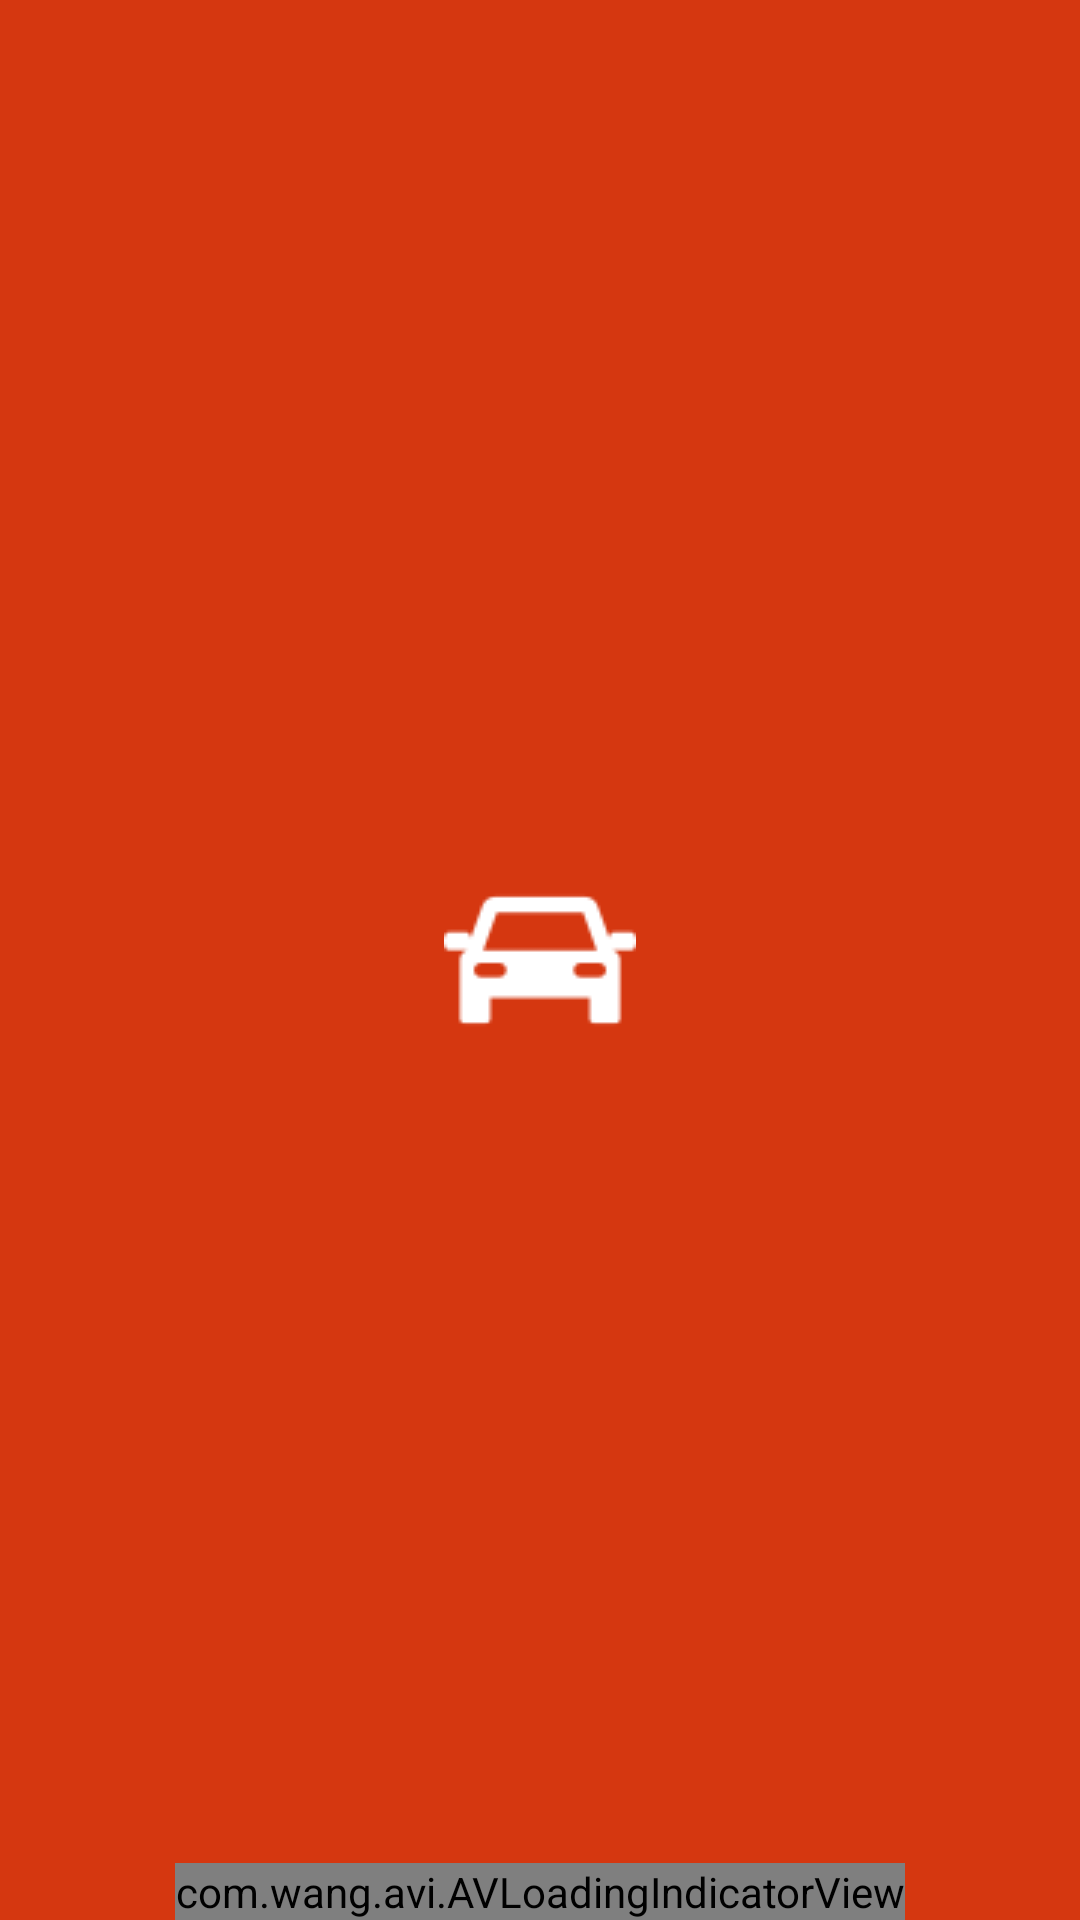

Icon bounding boxes for this 1080w x 1920h phone screenshot, format (x1, y1, x2, y2):
car: (444, 896, 636, 1024)
